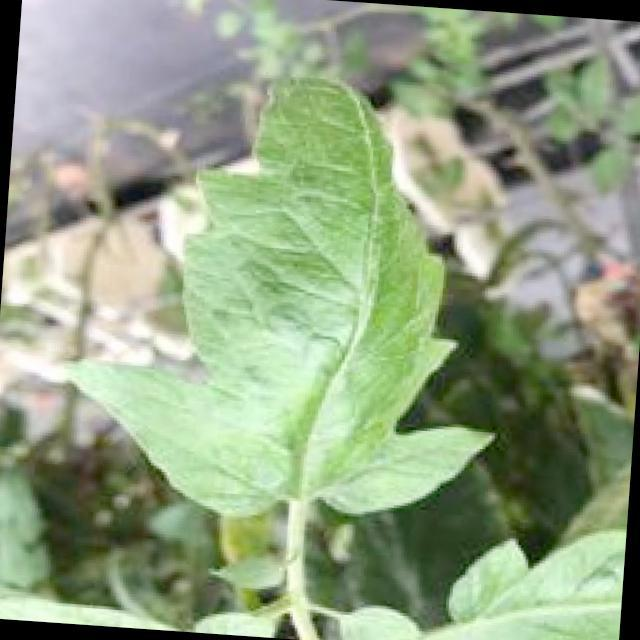Tomato healthy leaf: (61, 75, 494, 517)
